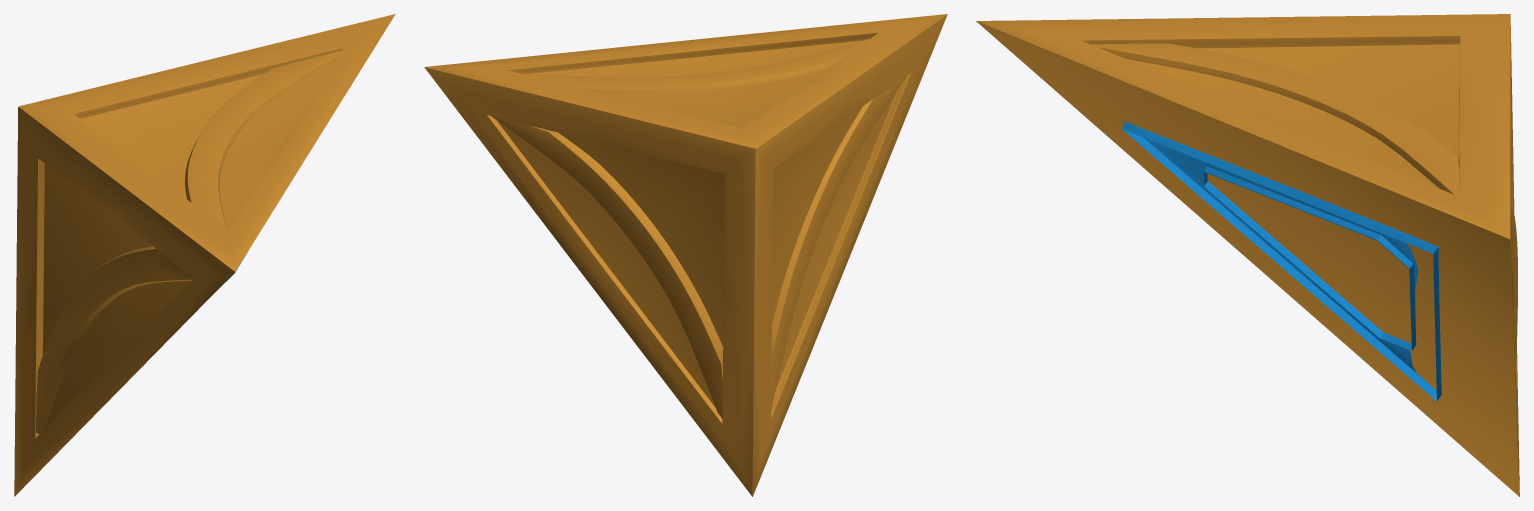
File: esquina_2.obj
3 views of the same model, side by side, from view 1: azimuth 30°, elevation 25°; view 2: azimuth 150°, elevation 25°; view 3: azimuth 270°, elevation 25° (orthographic). The views are drawn at different scales.
Parts seen in each view (by area): view 1: esquina_2; view 2: esquina_2; view 3: esquina_2.
Boxes of the visible parts, x1,y1,x2,y2 form: esquina_2: [14, 14, 395, 496]; esquina_2: [424, 14, 947, 496]; esquina_2: [976, 14, 1519, 496].
Size of the model in its own units: 5.14 by 5.13 by 5.22.
